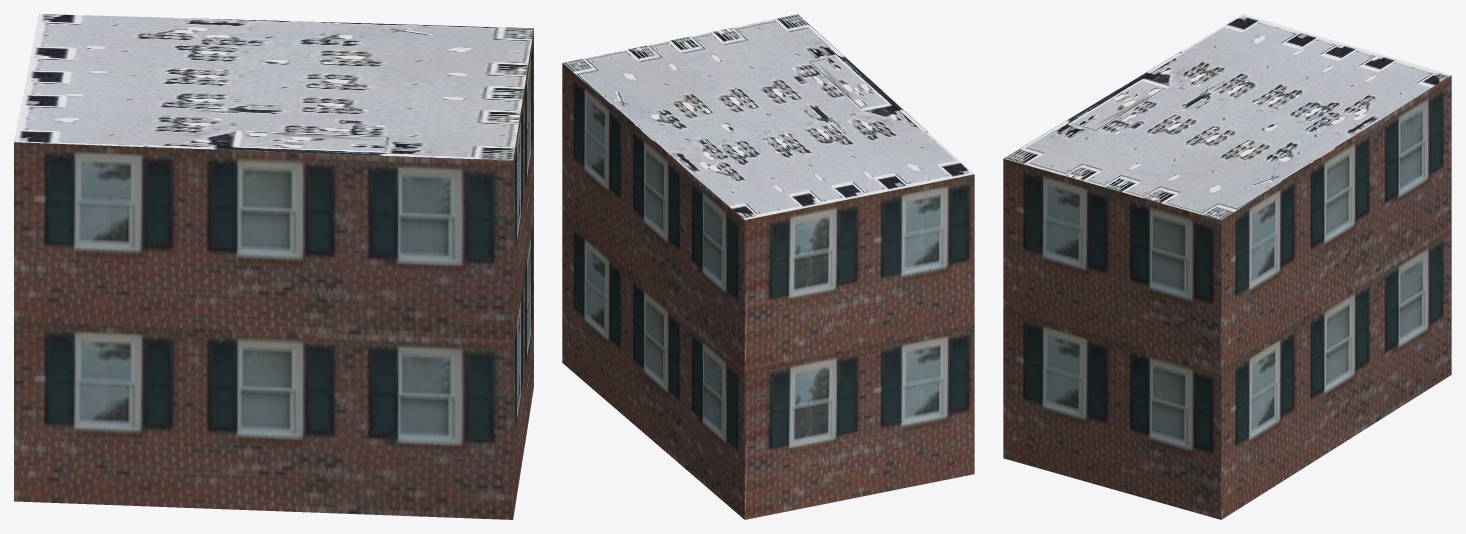
Rendered from ResTex__984.fbx.
The picture shows the model from 3 angles, left to right: view 1: azimuth 30°, elevation 25°; view 2: azimuth 150°, elevation 25°; view 3: azimuth 270°, elevation 25°; orthographic projection. The views are drawn at different scales.
Parts seen in each view (by area): view 1: CityEngineMaterial_14_m, CityEngineMaterial_4_m; view 2: CityEngineMaterial_14_m, CityEngineMaterial_4_m; view 3: CityEngineMaterial_14_m, CityEngineMaterial_4_m.
Boxes of the visible parts, x1,y1,x2,y2 form: CityEngineMaterial_14_m: (14,29,533,519); CityEngineMaterial_4_m: (14,14,533,160); CityEngineMaterial_14_m: (562,63,974,519); CityEngineMaterial_4_m: (563,14,974,219); CityEngineMaterial_14_m: (1003,75,1451,519); CityEngineMaterial_4_m: (1004,14,1451,220).
Bounding box in the file's own units: 8.86 × 6 × 8.14.
Materials: 2 (2 with a texture image).
